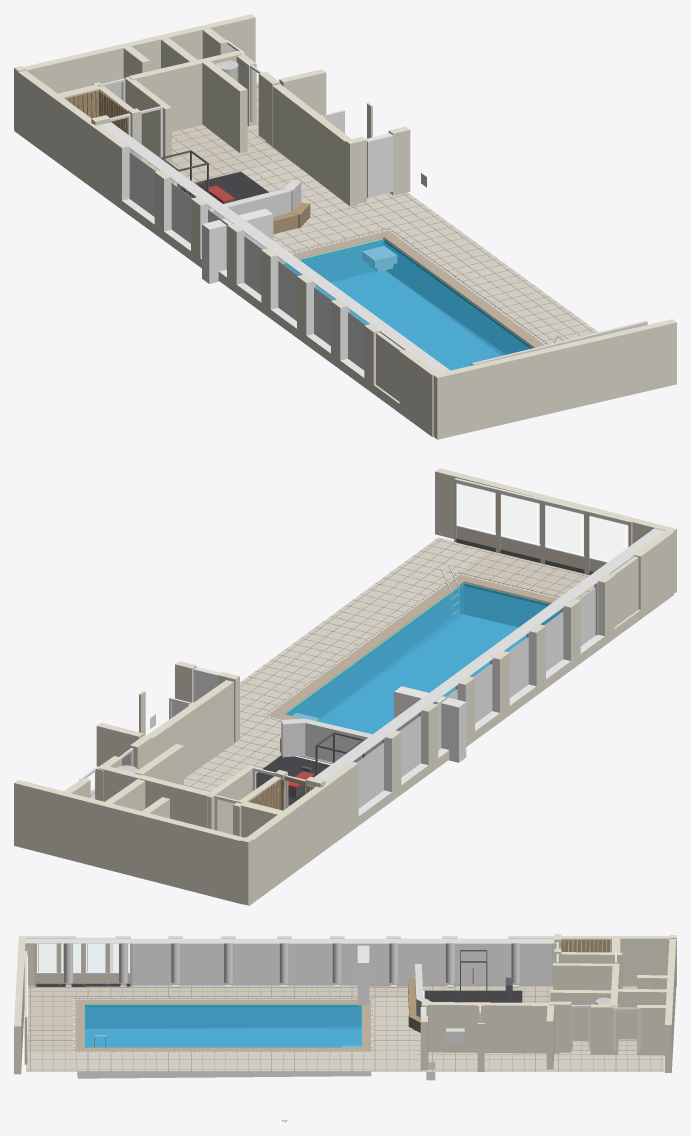
File: pool-3D-modelglb.glb
The picture shows the model from 3 angles, top to bottom: view 1: azimuth 30°, elevation 25°; view 2: azimuth 150°, elevation 25°; view 3: azimuth 270°, elevation 25°; orthographic projection. The views are drawn at different scales.
Visible parts, largest first — view 1: Plane.001, Plane.020, ADD_Pool_WaterBody, REF_Deck_East_Run, ADD_Pool_Floor, Plane.003, ADD_Mirror_Wall, Plane.015, ADD_Bulkhead, REF_InteriorTile_North_Changing_Rooms, REF_InteriorTile_East_Changing_Run, Plane.029 (+20 smaller); view 2: Plane.001, Plane.003, ADD_Pool_WaterBody, REF_Deck_East_Run, ADD_Pool_Floor, ADD_Mirror_Wall, Plane.015, ADD_Bulkhead, Plane.029, REF_Deck_South_Run, Plane.020, Plane.011 (+23 smaller); view 3: ADD_Mirror_Wall, ADD_Pool_WaterBody, REF_Deck_East_Run, Plane.030, Plane.015, ADD_Pool_Floor, Plane.001, REF_Deck_West_Run, REF_InteriorTile_East_Changing_Run, ADD_Bulkhead, REF_Deck_South_Run, REF_Deck_North_Run (+49 smaller).
Part boxes in pixels (x1,y1,x2,y2): Plane.001: (14, 69, 439, 436); Plane.020: (433, 319, 676, 439); ADD_Pool_WaterBody: (286, 242, 530, 370); REF_Deck_East_Run: (362, 196, 598, 344); ADD_Pool_Floor: (317, 272, 504, 369); Plane.003: (23, 14, 255, 99); ADD_Mirror_Wall: (129, 152, 365, 370); Plane.015: (265, 84, 357, 206); ADD_Bulkhead: (100, 122, 449, 372); REF_InteriorTile_North_Changing_Rooms: (141, 82, 287, 186); REF_InteriorTile_East_Changing_Run: (184, 83, 408, 216); Plane.029: (383, 237, 534, 353); Plane.001: (243, 530, 673, 905); Plane.003: (14, 780, 244, 904); ADD_Pool_WaterBody: (288, 586, 560, 734); REF_Deck_East_Run: (240, 537, 487, 731); ADD_Pool_Floor: (320, 614, 525, 733); ADD_Mirror_Wall: (357, 588, 595, 808); Plane.015: (147, 680, 237, 778); ADD_Bulkhead: (314, 528, 664, 780); Plane.029: (284, 587, 457, 717); REF_Deck_South_Run: (458, 550, 594, 599); Plane.020: (435, 468, 676, 593); Plane.011: (99, 765, 211, 827); ADD_Mirror_Wall: (74, 943, 551, 984); ADD_Pool_WaterBody: (85, 1007, 361, 1047); REF_Deck_East_Run: (26, 1052, 421, 1071); Plane.030: (84, 1003, 360, 1028); Plane.015: (428, 1002, 559, 1053); ADD_Pool_Floor: (85, 1027, 360, 1046); Plane.001: (25, 936, 669, 986); REF_Deck_West_Run: (28, 986, 408, 998); REF_InteriorTile_East_Changing_Run: (422, 1039, 664, 1071); ADD_Bulkhead: (25, 938, 556, 943); REF_Deck_South_Run: (27, 998, 72, 1052); REF_Deck_North_Run: (373, 998, 416, 1052).
Size of the model in its own units: 10.24 by 5.53 by 28.88.
